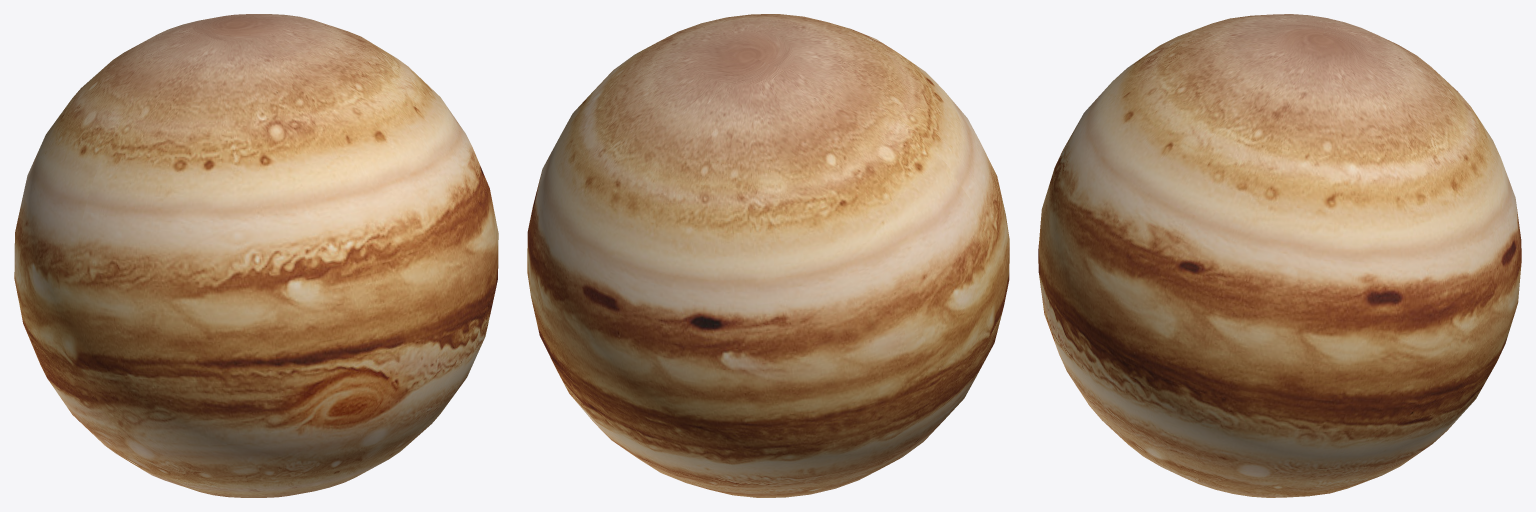
Rendered from Saturn.obj.
The picture shows the model from 3 angles, left to right: view 1: azimuth 30°, elevation 25°; view 2: azimuth 150°, elevation 25°; view 3: azimuth 270°, elevation 25°; orthographic projection.
Visible parts, largest first — view 1: Jupiter; view 2: Jupiter; view 3: Jupiter.
Boxes of the visible parts, <box> form: Jupiter: <box>14,14,498,497</box>; Jupiter: <box>527,14,1009,497</box>; Jupiter: <box>1038,14,1521,497</box>.
Size of the model in its own units: 81.46 by 81.74 by 81.45.
